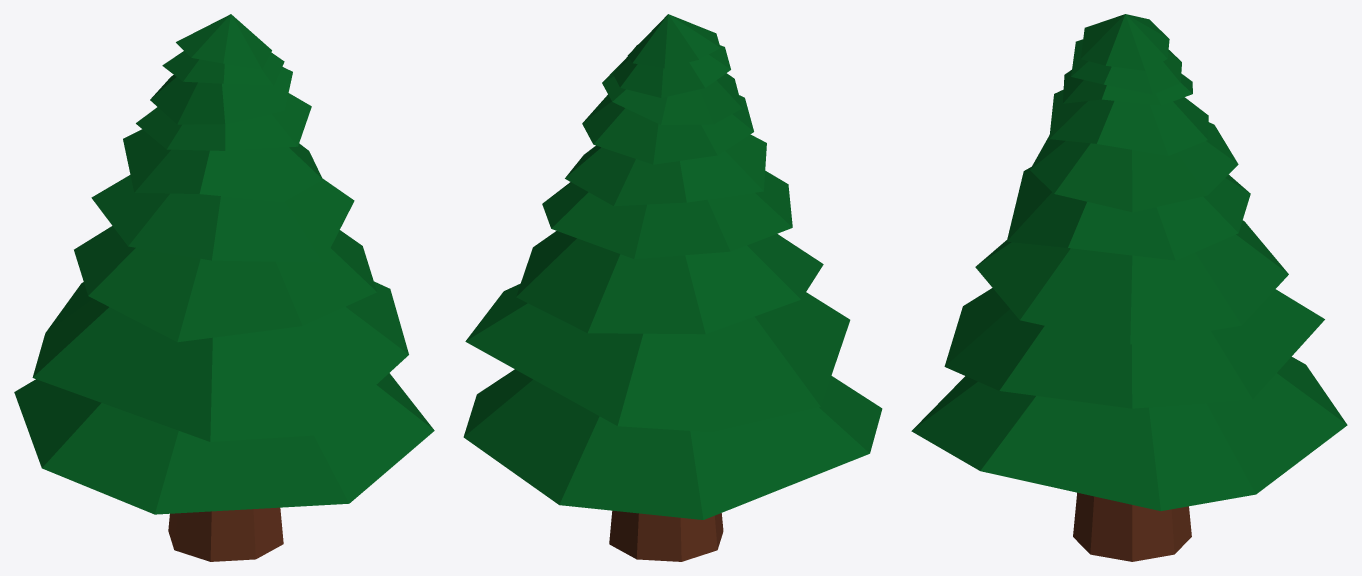
File: tree1.fbx
3 views of the same model, side by side, from view 1: azimuth 30°, elevation 25°; view 2: azimuth 150°, elevation 25°; view 3: azimuth 270°, elevation 25° (orthographic).
Visible parts, largest first — view 1: Cone, Cylinder; view 2: Cone, Cylinder; view 3: Cone, Cylinder.
Part boxes in pixels (bbox=[...]): Cone: bbox=[14, 14, 434, 514]; Cylinder: bbox=[168, 507, 283, 561]; Cone: bbox=[463, 14, 882, 519]; Cylinder: bbox=[609, 510, 723, 561]; Cone: bbox=[911, 14, 1347, 510]; Cylinder: bbox=[1073, 492, 1191, 561].
Size of the model in its own units: 139 by 188 by 142.
